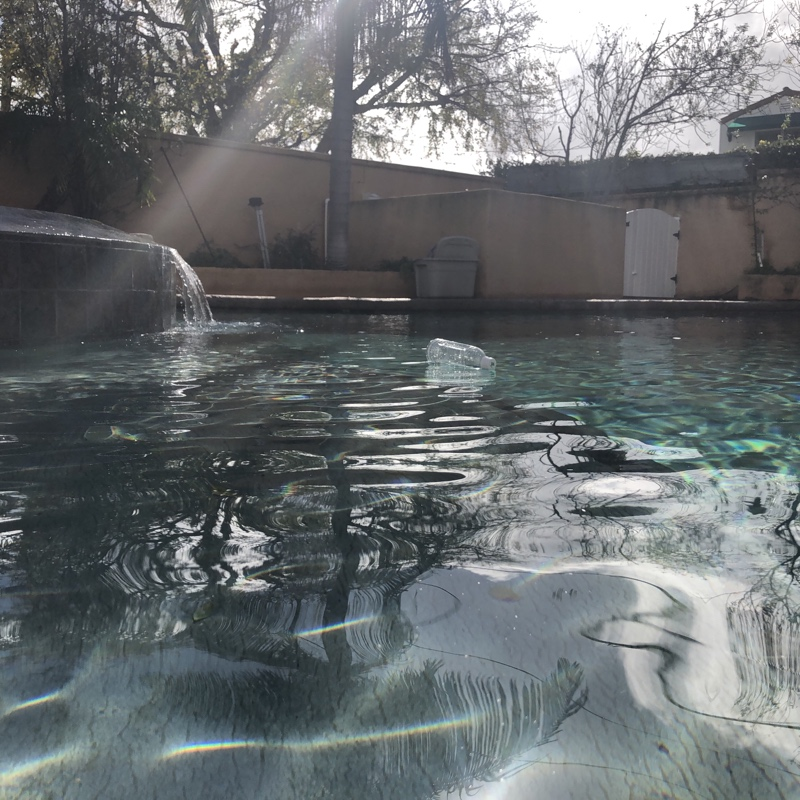Plastic Bottle: (420, 335, 498, 377)
